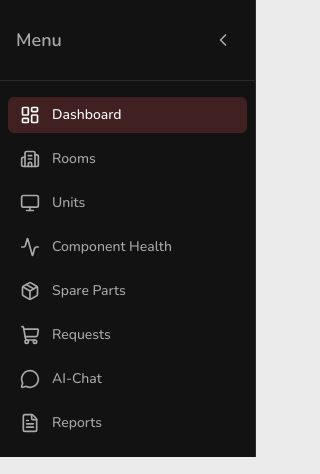
Sidebar › collapses when toggle button is clicked
Click the button titled "Collapse" at (223,40), box [207, 24, 239, 56]
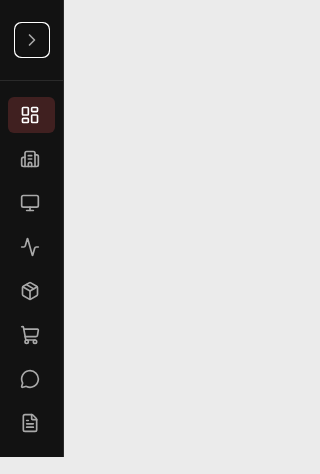
expect the text "Dashboard" is gone: met
